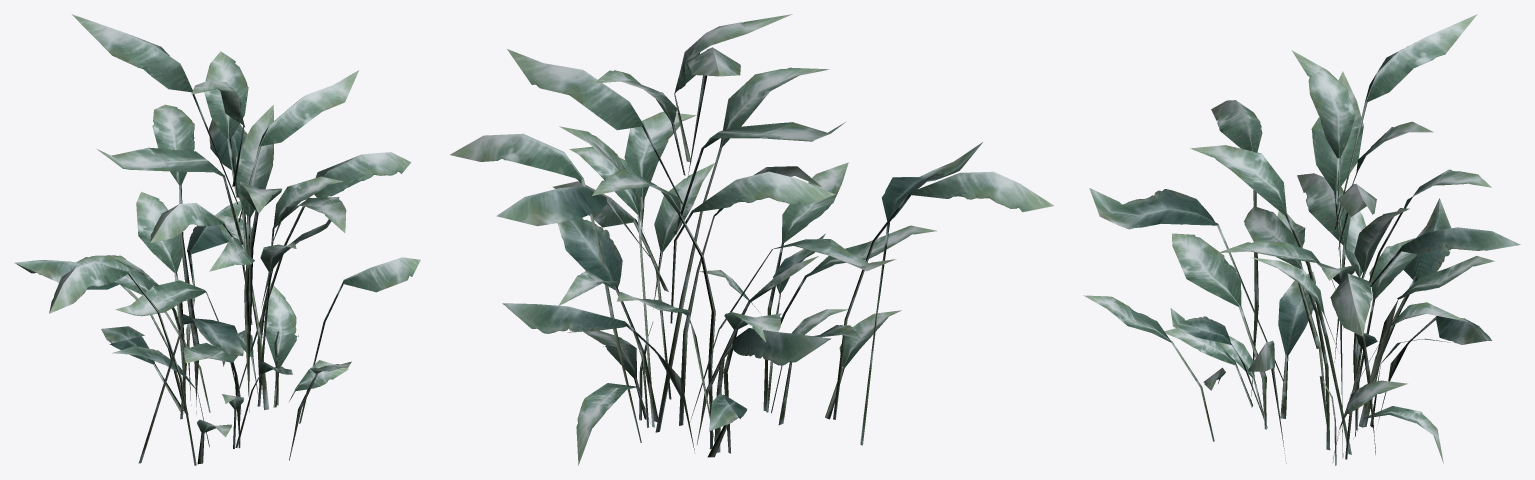
Rendered from 3-1_zhiwui2.FBX.
3 views of the same model, side by side, from view 1: azimuth 30°, elevation 25°; view 2: azimuth 150°, elevation 25°; view 3: azimuth 270°, elevation 25° (orthographic). The views are drawn at different scales.
Visible parts, largest first — view 1: 3-1_zhiwui2; view 2: 3-1_zhiwui2; view 3: 3-1_zhiwui2.
Boxes of the visible parts, box(x1,y1,x2,y2) form: 3-1_zhiwui2: box(14, 14, 420, 465); 3-1_zhiwui2: box(450, 14, 1053, 465); 3-1_zhiwui2: box(1083, 14, 1520, 465).
Bounding box in the file's own units: 311 × 255 × 264.
